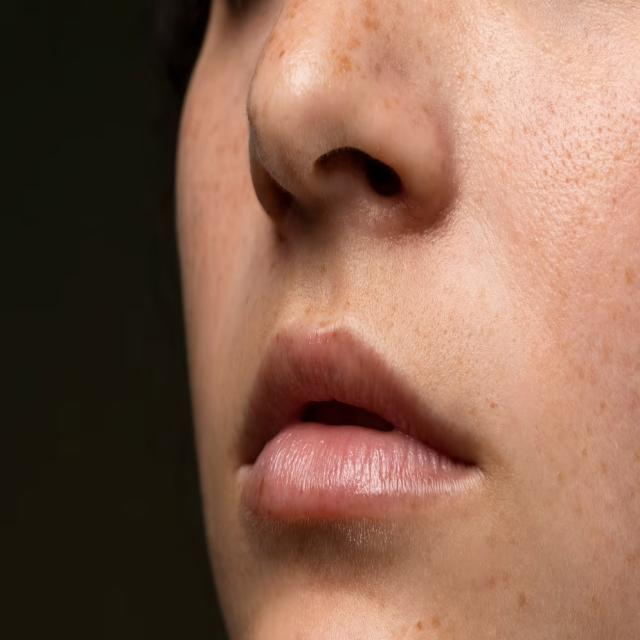Dry-Skin: (352, 543, 446, 635), (538, 104, 600, 180), (478, 98, 524, 173), (323, 24, 377, 87)
